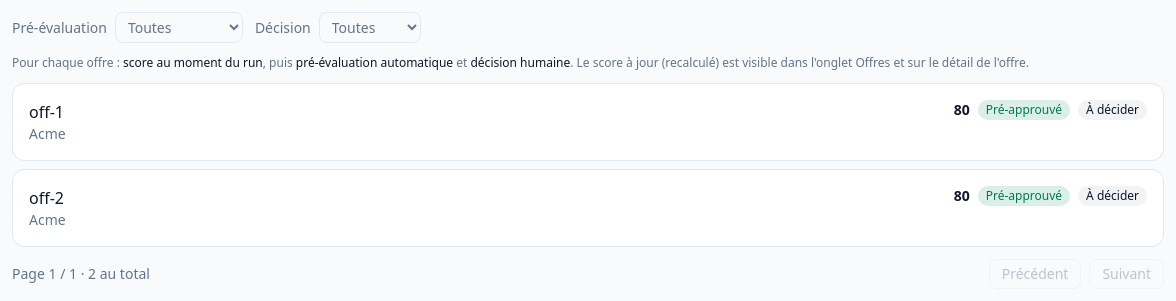
RunRecommendations — filtres de statut (OPP-109) › filtrer par decision_status recharge la liste filtrée et recalcule le total
Expected: the link "off-2" is shown, [29,187,64,209]
Expected: the text "Page 1 / 1 · 2 au total" is shown, [12,264,150,284]
Select "Approuvé" in the dropdown named "Filtre décision" at [370, 28], box [319,12,421,43]
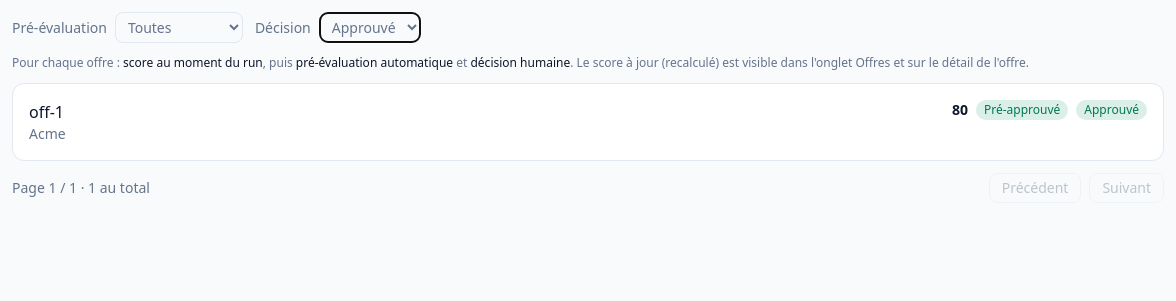
Expected: the link "off-1" is shown, [29,101,64,123]
Expected: the link "off-2" is gone
Expected: the text "Page 1 / 1 · 1 au total" is shown, [12,178,150,198]
